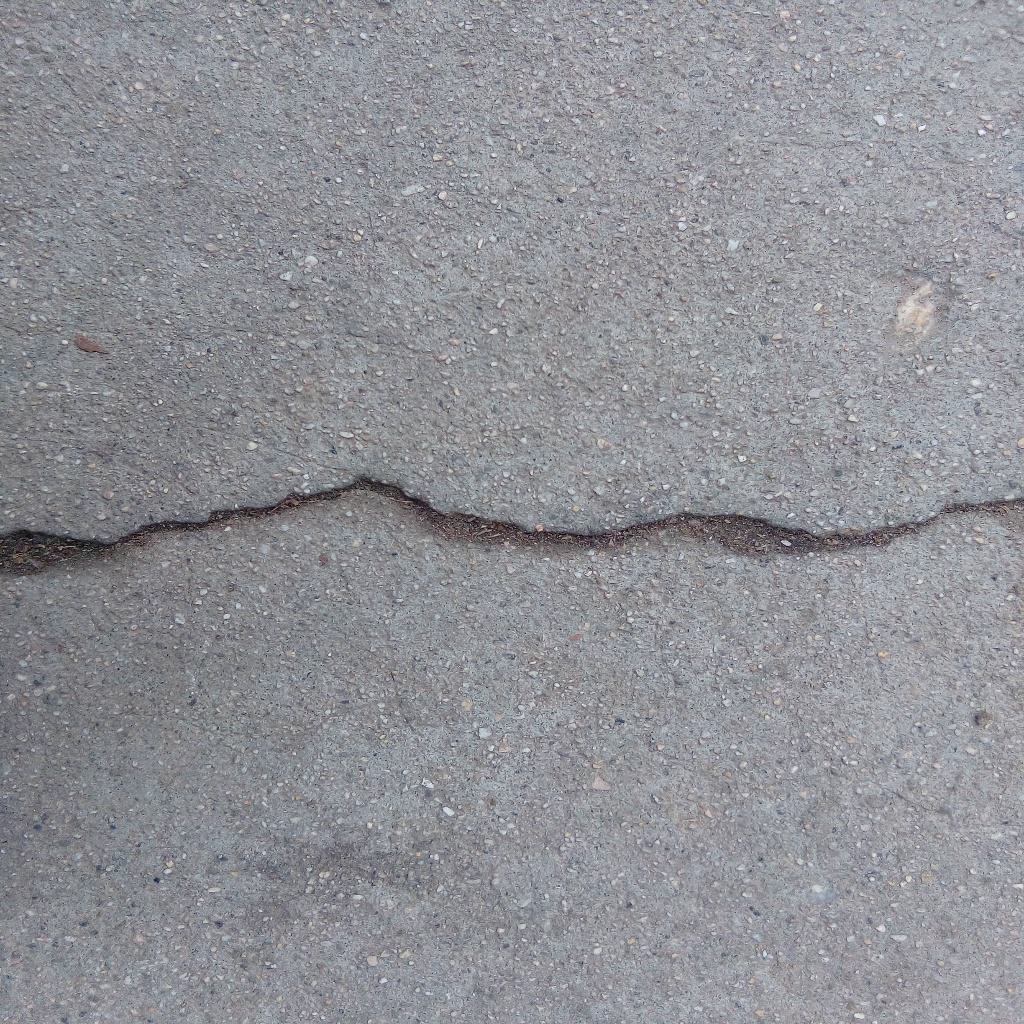Crack: (1, 470, 1024, 580)
